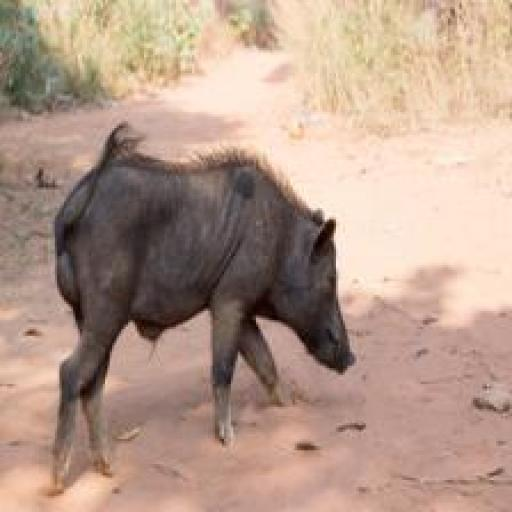Pig: (41, 121, 365, 502)
